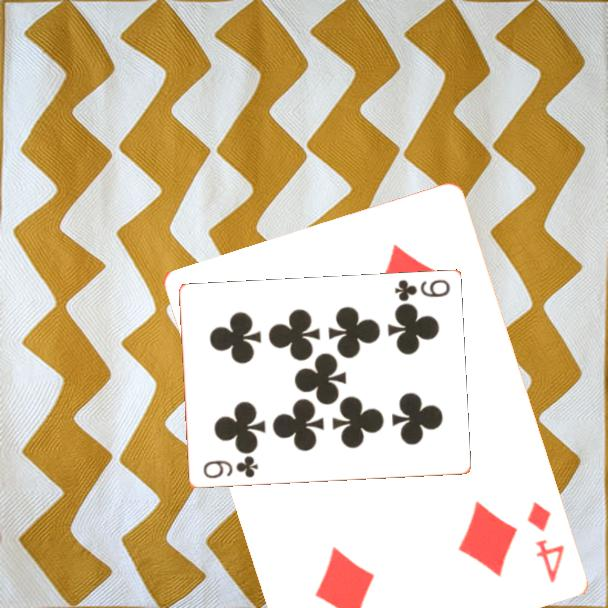c09: (200, 453, 260, 482), (391, 276, 453, 304)
d04: (523, 497, 567, 586)
